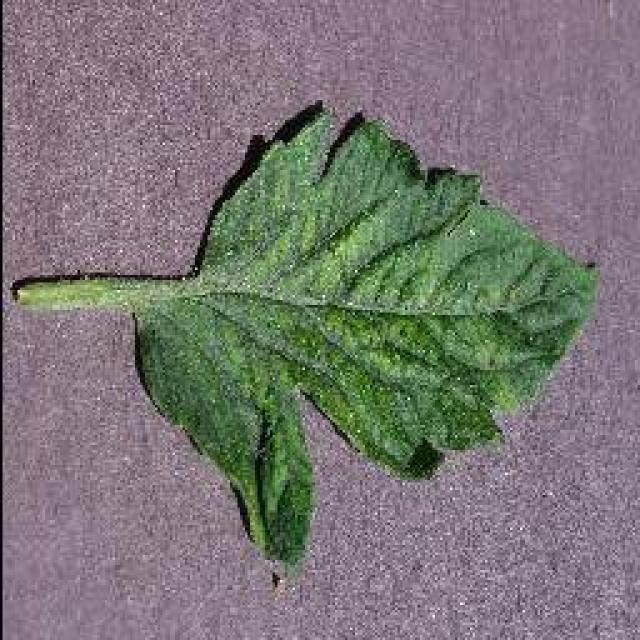Tomato___Tomato_mosaic_virus: (12, 105, 598, 588)
